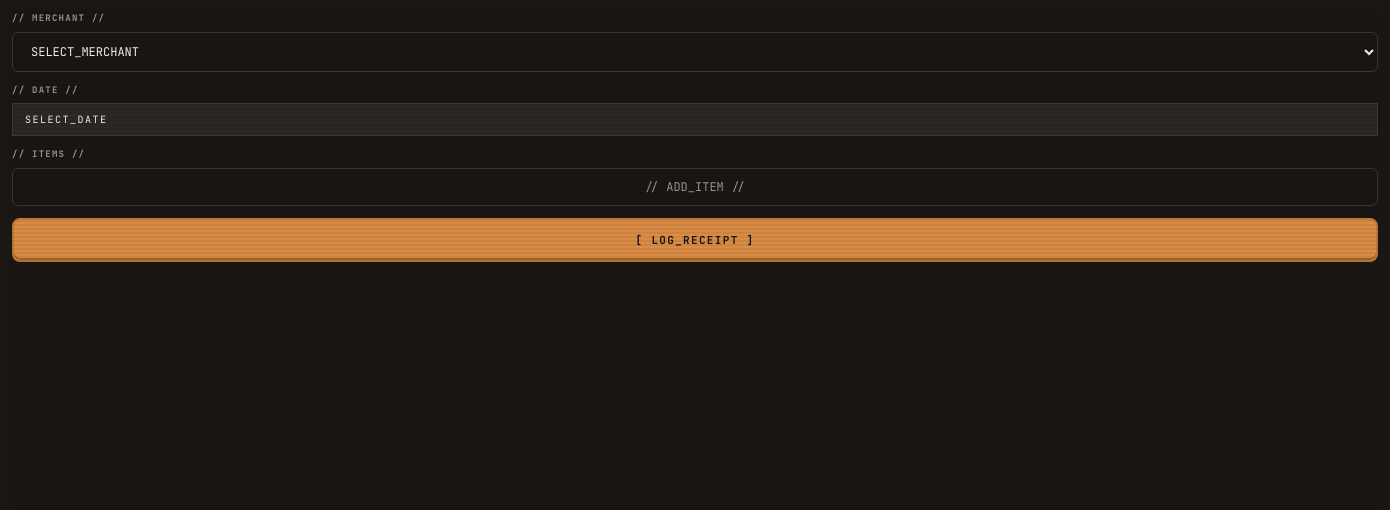
Scenario: Item management › allows adding multiple items
Click the button "// ADD_ITEM //" at (695, 186), box top-left (12, 168), bottom-right (1378, 206)
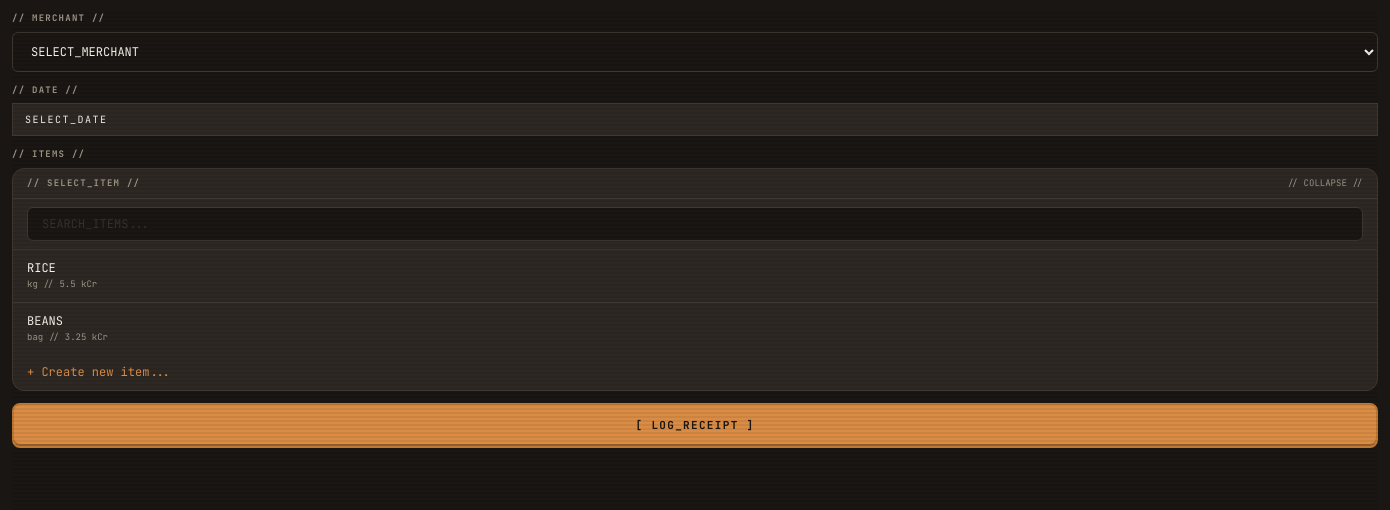
Click the text "RICE" at (41, 268), box top-left (27, 260), bottom-right (56, 276)
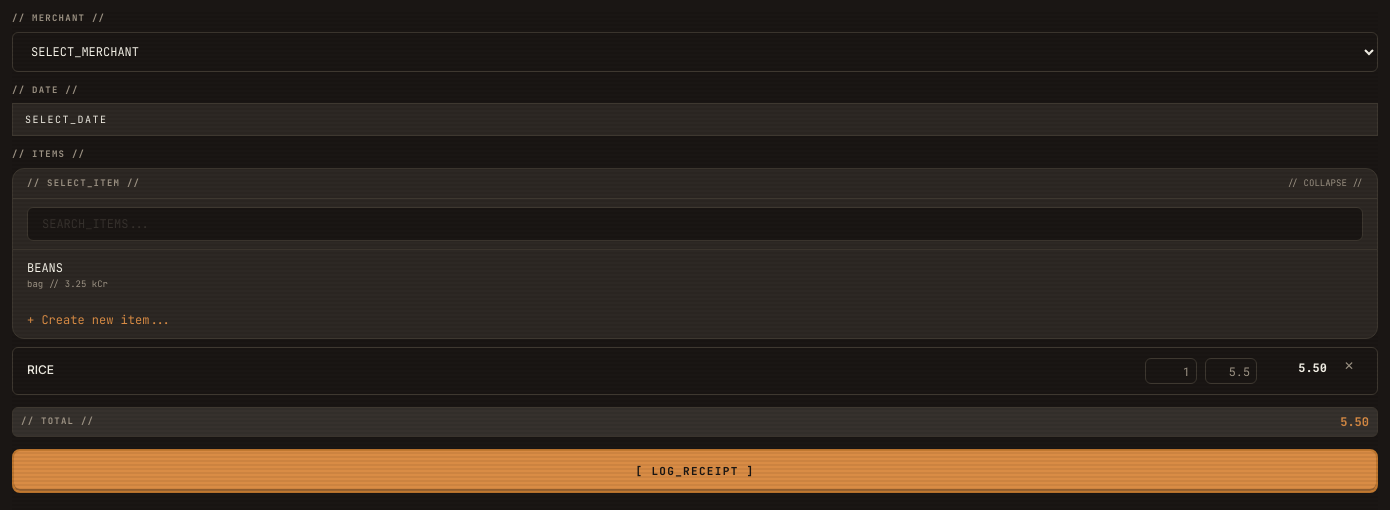
Click the button "// COLLAPSE //" at (1325, 183), box top-left (1287, 176), bottom-right (1363, 190)
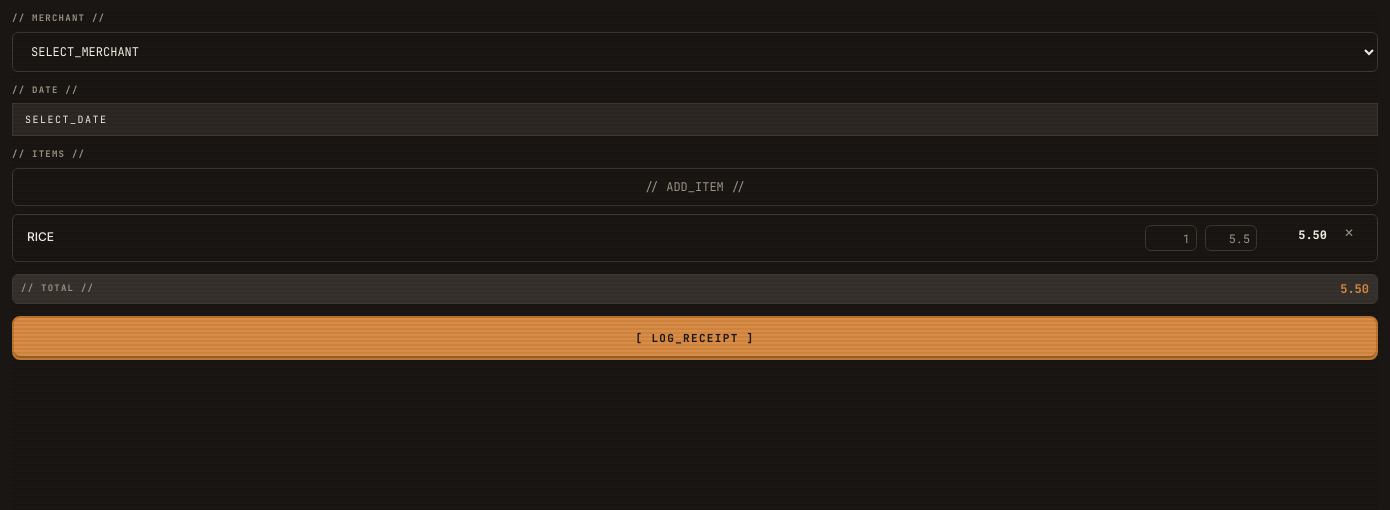
Click the button "// ADD_ITEM //" at (695, 186), box top-left (12, 168), bottom-right (1378, 206)
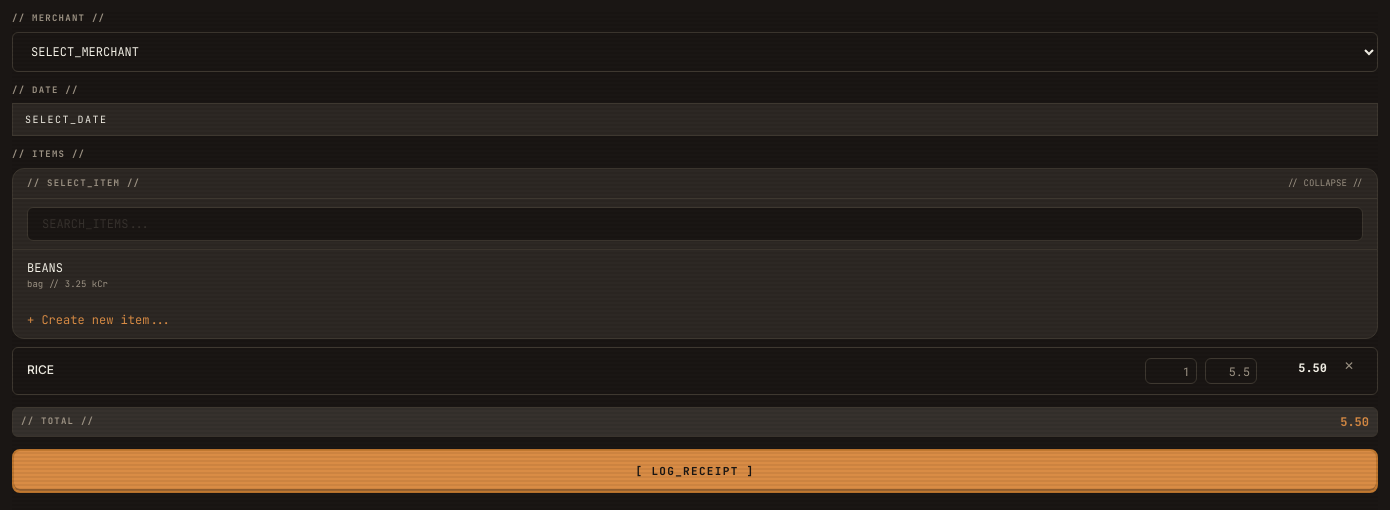
Click the text "BEANS" at (45, 268), box top-left (27, 260), bottom-right (63, 276)
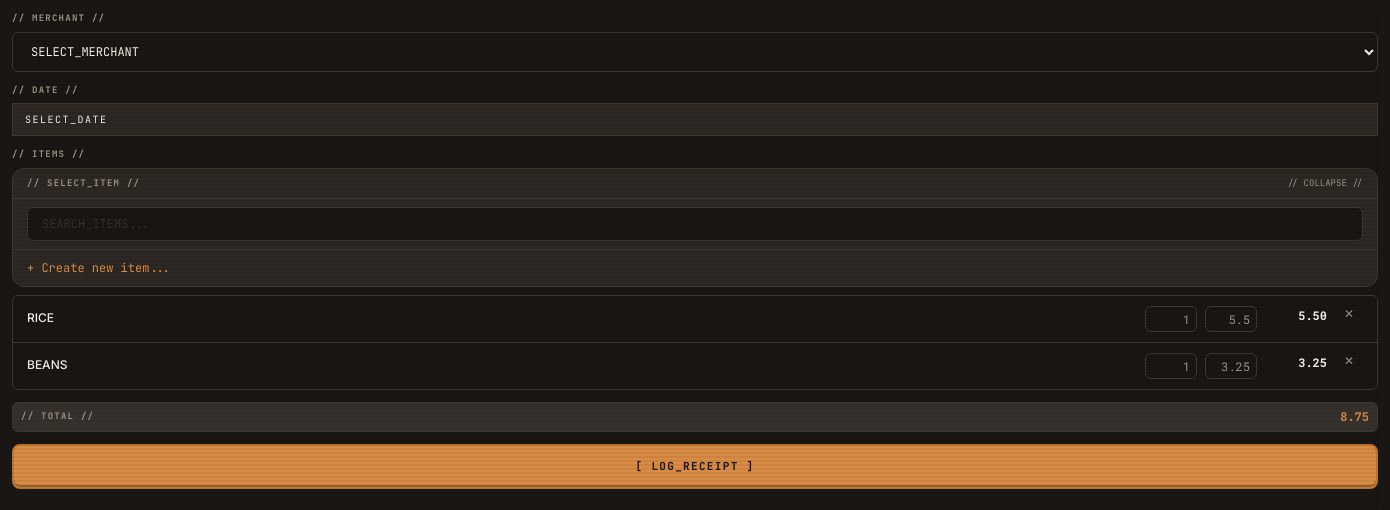
Result: the number of number fields named "QTY" is 2 at top-left (1145, 306), bottom-right (1197, 332); top-left (1145, 353), bottom-right (1197, 379)
